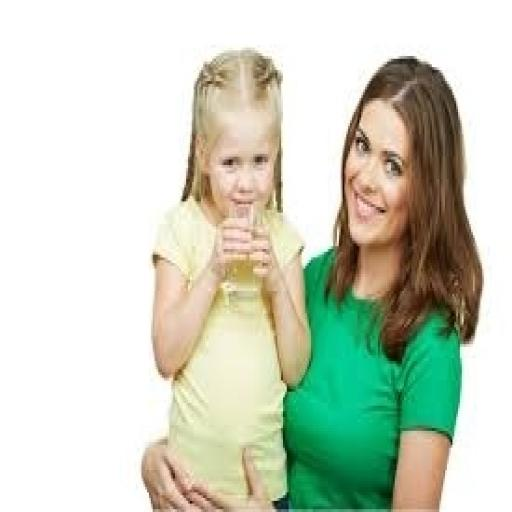drinking: (222, 202, 260, 300)
